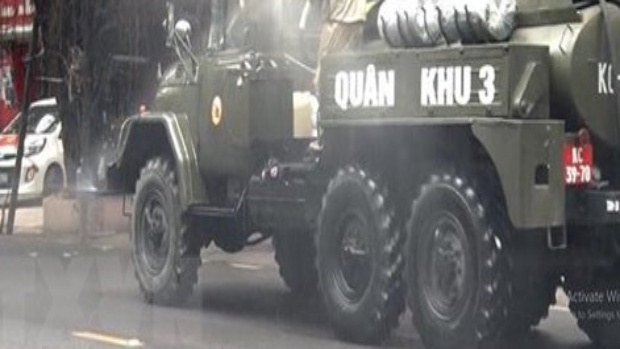plate: (560, 145, 595, 188)
